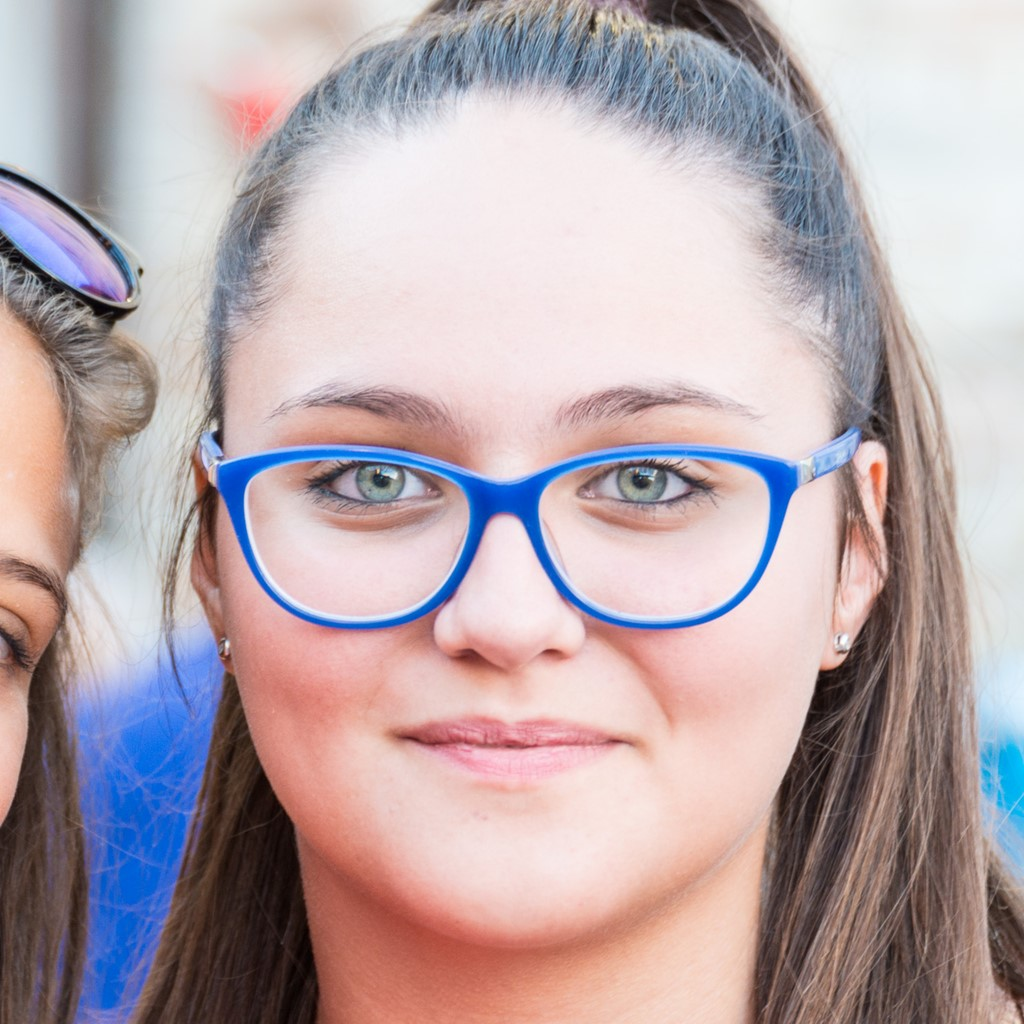sin_mascara: (239, 97, 881, 955)
